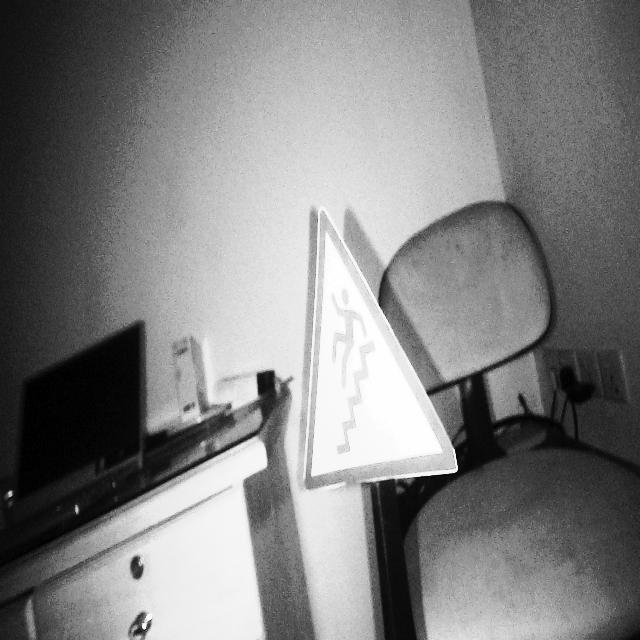Sign: (303, 204, 459, 494)
